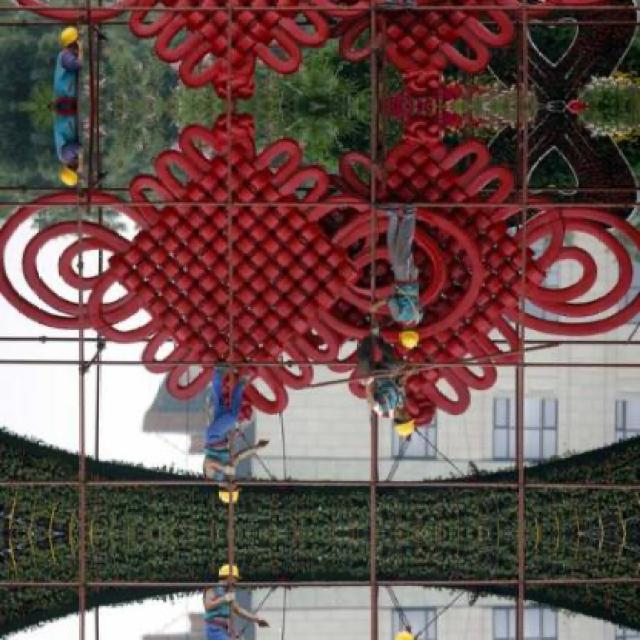con casco: (36, 146, 110, 219), (213, 465, 285, 522), (360, 390, 416, 450), (392, 309, 434, 356)
